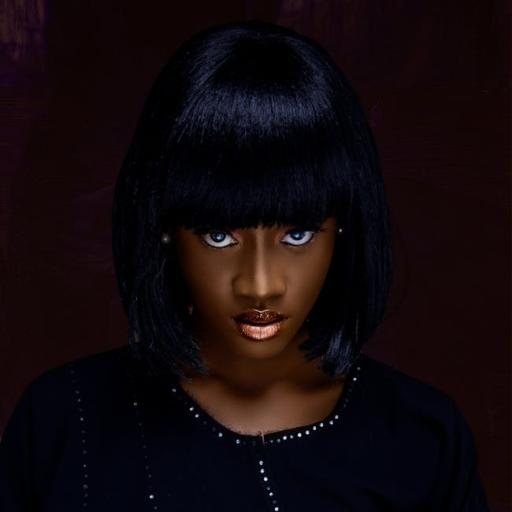lipstick: (234, 310, 286, 340)
